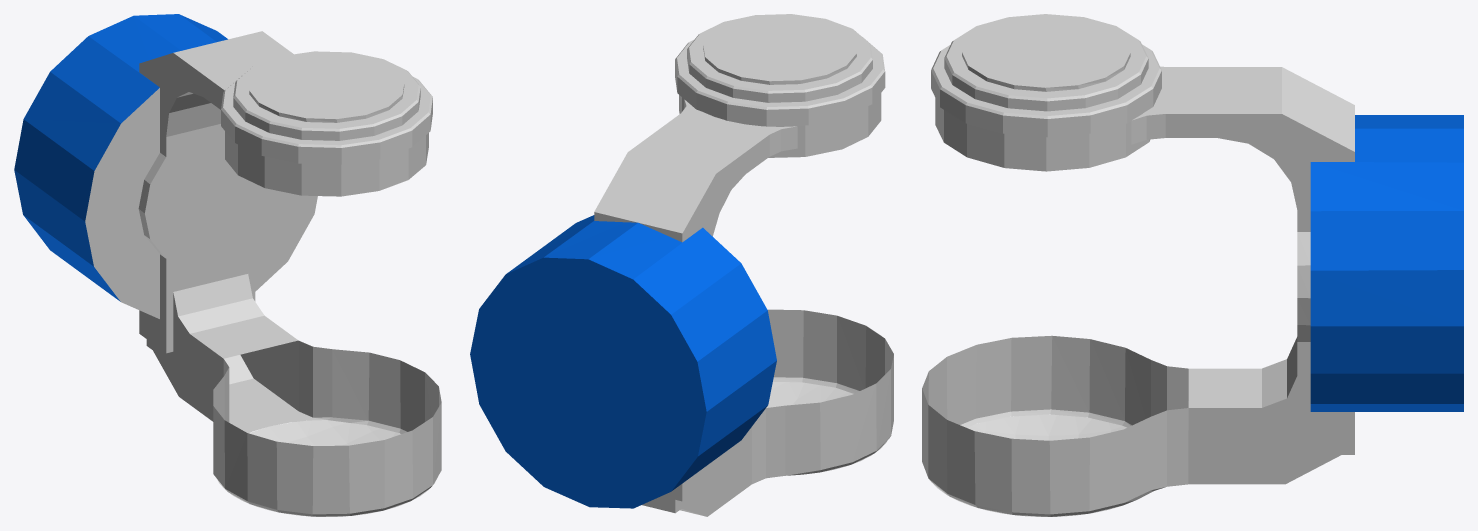
File: LARM_LINK6_mesh.dae
The picture shows the model from 3 angles, left to right: view 1: azimuth 30°, elevation 25°; view 2: azimuth 150°, elevation 25°; view 3: azimuth 270°, elevation 25°; orthographic projection. The views are drawn at different scales.
Parts seen in each view (by area): view 1: LARM_LINK6 (×2); view 2: LARM_LINK6 (×2); view 3: LARM_LINK6 (×2).
Boxes of the visible parts, left/top/right/bottom form: LARM_LINK6 (×2): left=14, top=14, right=441, bottom=516; LARM_LINK6 (×2): left=470, top=14, right=893, bottom=516; LARM_LINK6 (×2): left=922, top=14, right=1463, bottom=516.
Bounding box in the file's own units: 0.067 × 0.1075 × 0.122.
